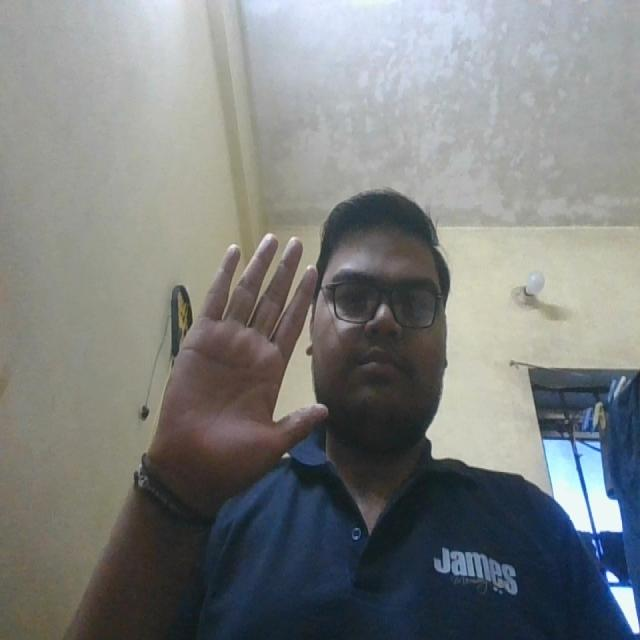Hello: (146, 196, 330, 518)
